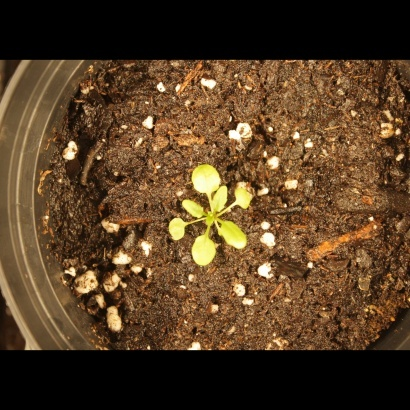leaf: (185, 162, 222, 193), (190, 232, 219, 269), (216, 222, 250, 252), (161, 215, 189, 243), (207, 186, 230, 216), (179, 198, 206, 221), (234, 186, 257, 209)
